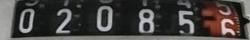digits: (209, 2, 238, 40), (96, 5, 112, 31), (55, 8, 71, 33), (177, 10, 194, 33), (138, 8, 154, 32), (19, 8, 35, 32)
